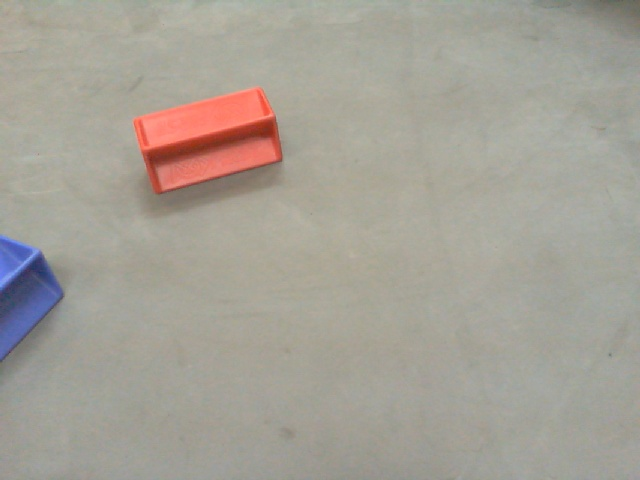BlueSample: (1, 232, 65, 361)
RedSample: (129, 85, 287, 200)
